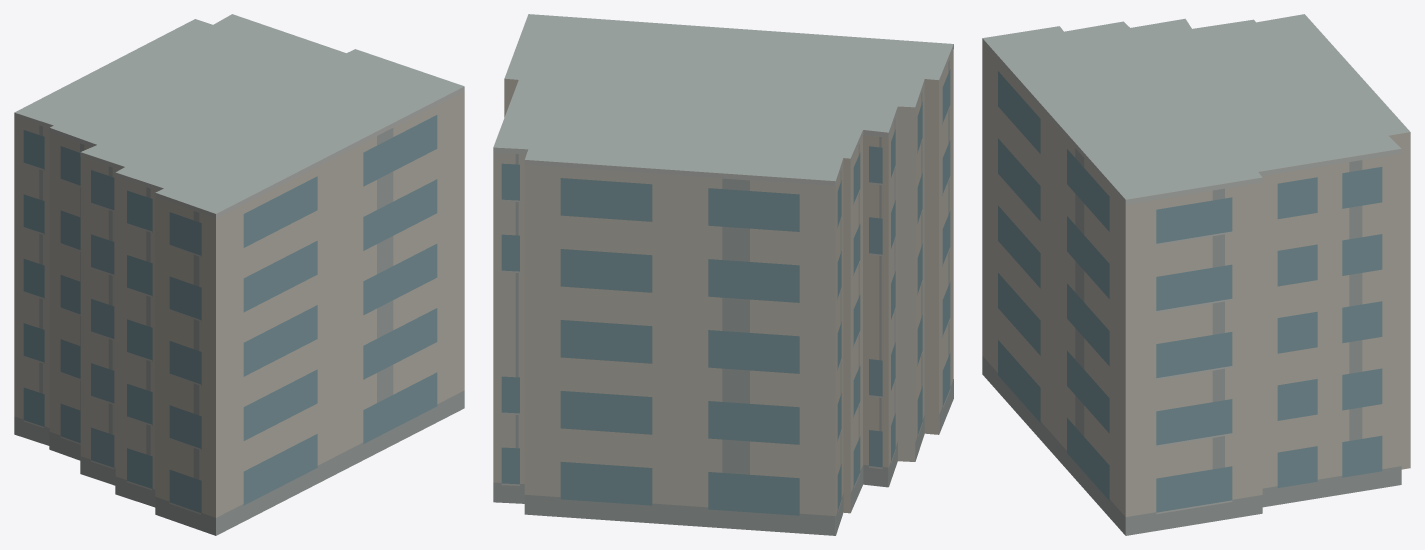
The model's file is survey-upis-32973336.glb.
3 renders of one model, left to right at view 1: azimuth 30°, elevation 25°; view 2: azimuth 150°, elevation 25°; view 3: azimuth 270°, elevation 25°, orthographic. The views are drawn at different scales.
Visible parts, largest first — view 1: survey-upis-32973336.tmp; view 2: survey-upis-32973336.tmp; view 3: survey-upis-32973336.tmp.
Part boxes in pixels (<box>): survey-upis-32973336.tmp: <box>14,14,464,535</box>; survey-upis-32973336.tmp: <box>493,14,953,535</box>; survey-upis-32973336.tmp: <box>982,14,1410,535</box>.
Size of the model in its own units: 19.98 by 16.85 by 19.47.
